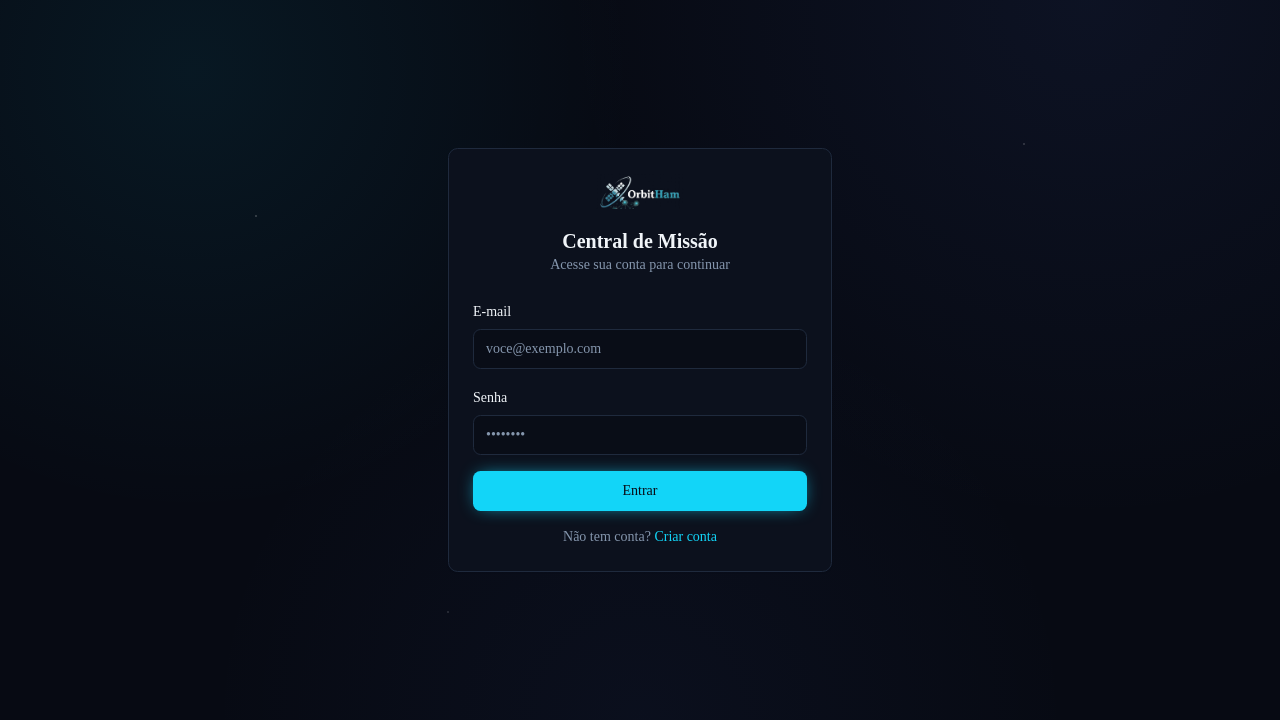
LoginPage › shows validation errors when submitting empty
The width and height of the screenshot is (1280, 720).
Click the button "Entrar": (640, 491) 473,471 -> 807,511
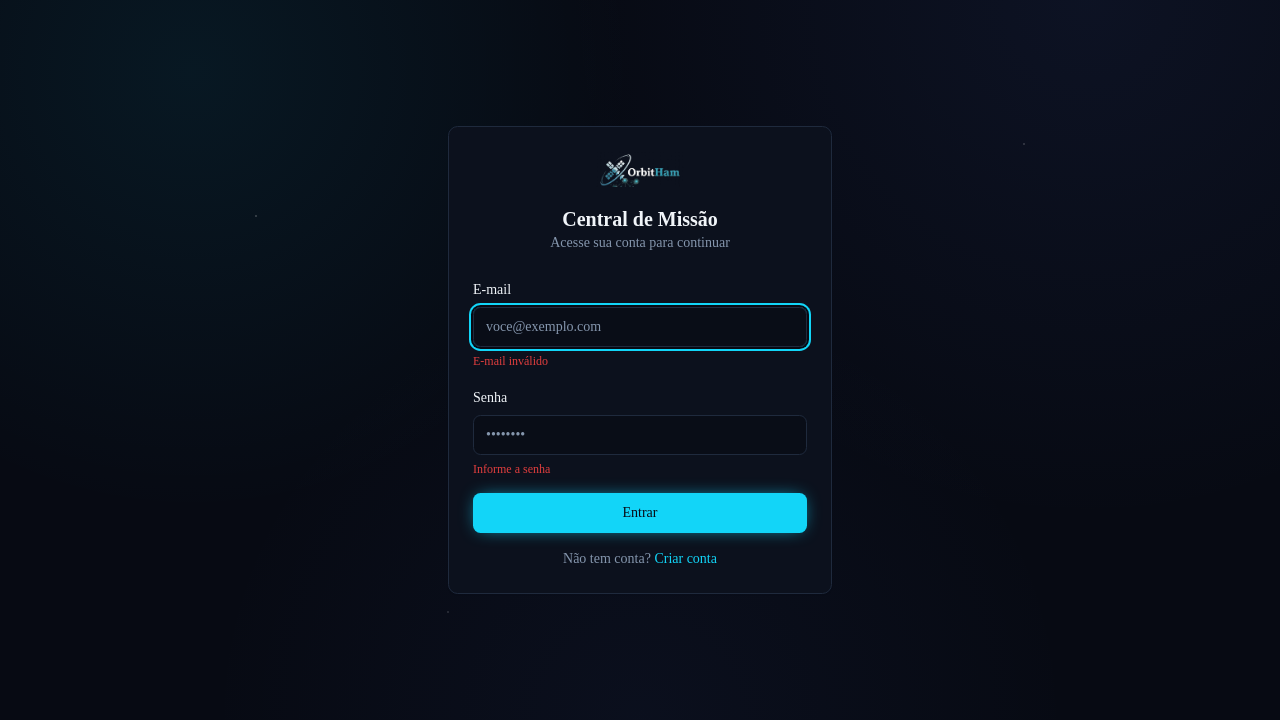
Now the text "E-mail inválido" is shown, box 473,354 -> 548,368
